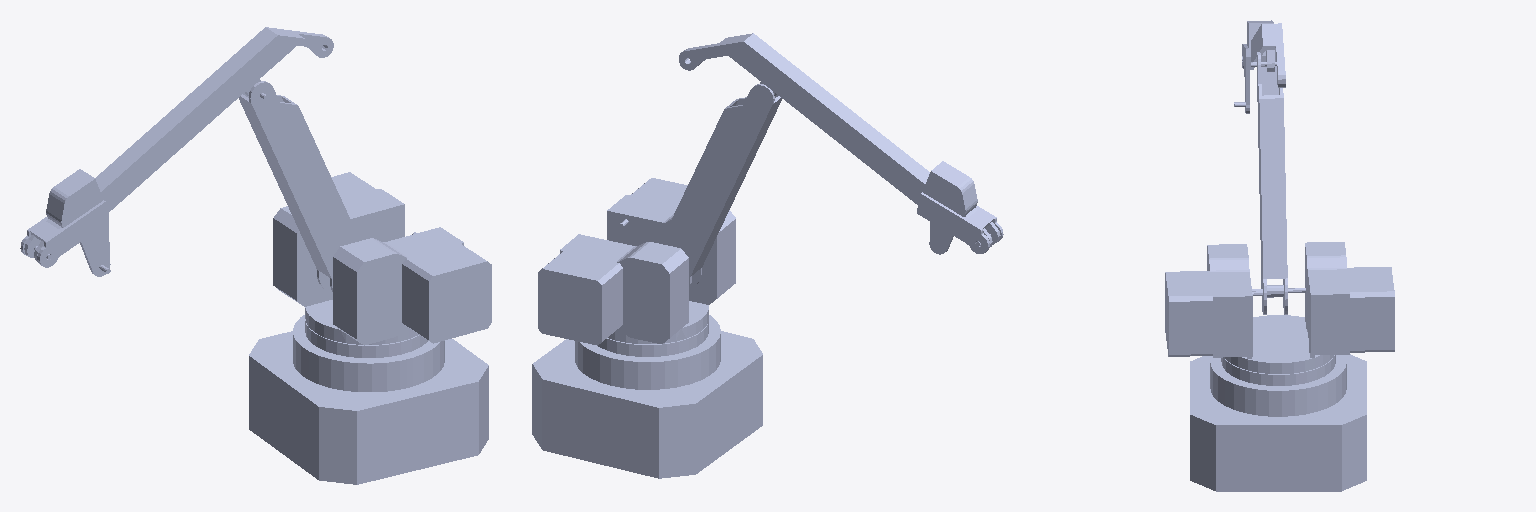
The robot description file, URDF, robot "swiftpro":
<robot
  name="swiftpro">

  <klampt package_root="[local-path]/uarm/ROS/src" fixed_root_link="Link 0"/>

  <link
    name="base_footprint">
    <fixed>
      <origin
        xyz="0.0000 0.0000 0.0000"
        rpy="0 0 0" />
    </fixed>
  </link>

  <link
    name="base">
    <inertial>
      <origin
        xyz="-9.34726122709917E-19 1.77939460840268E-18 0.0300064791337254"
        rpy="0 0 0" />
      <mass
        value="0.679637270218751" />
      <inertia
        ixx="0.000817651950315855"
        ixy="-1.85331470603731E-20"
        ixz="6.68744425350768E-21"
        iyy="0.000817651950315855"
        iyz="4.10821966385872E-20"
        izz="0.00116316552753551" />
    </inertial>
    <visual>
      <origin
        xyz="0 0 0"
        rpy="0 0 0" />
      <geometry>
        <mesh
          filename="package://swiftpro_support/meshes/Base.STL" />
      </geometry>
      <material
        name="">
        <color
          rgba="0.792156862745098 0.819607843137255 0.933333333333333 1" />
      </material>
    </visual>
    <collision>
      <origin
        xyz="0 0 0"
        rpy="0 0 0" />
      <geometry>
        <mesh
          filename="package://swiftpro_support/meshes/Base.STL" />
      </geometry>
    </collision>
  </link>

  <link
    name="link1">
    <inertial>
      <origin
        xyz="-2.55568402493348E-06 0.030540926133861 0.00413270671578733"
        rpy="0 0 0" />
      <mass
        value="0.296580985459948" />
      <inertia
        ixx="0.00018532742603172"
        ixy="1.39475759212683E-08"
        ixz="1.37901625170713E-08"
        iyy="0.000619593242561017"
        iyz="-3.73559978369842E-06"
        izz="0.000573811013496632" />
    </inertial>
    <visual>
      <origin
        xyz="0 0 0"
        rpy="0 0 0" />
      <geometry>
        <mesh
          filename="package://swiftpro_support/meshes/Link1.STL" />
      </geometry>
      <material
        name="">
        <color
          rgba="0.792156862745098 0.819607843137255 0.933333333333333 1" />
      </material>
    </visual>
    <collision>
      <origin
        xyz="0 0 0"
        rpy="0 0 0" />
      <geometry>
        <mesh
          filename="package://swiftpro_support/meshes/Link1.STL" />
      </geometry>
    </collision>
  </link>

  <link
    name="link2">
    <inertial>
      <origin
        xyz="0.0647725407680328 -0.00155255361416372 0.000594842747156696"
        rpy="0 0 0" />
      <mass
        value="0.0218697004736725" />
      <inertia
        ixx="2.38072716428988E-06"
        ixy="2.14219537562554E-08"
        ixz="-9.19598616394197E-07"
        iyy="4.39492923296653E-05"
        iyz="1.1133182076096E-09"
        izz="4.31316985886006E-05" />
    </inertial>
    <visual>
      <origin
        xyz="0 0 0"
        rpy="0 0 0" />
      <geometry>
        <mesh
          filename="package://swiftpro_support/meshes/Link2.STL" />
      </geometry>
      <material
        name="">
        <color
          rgba="0.792156862745098 0.819607843137255 0.933333333333333 1" />
      </material>
    </visual>
    <collision>
      <origin
        xyz="0 0 0"
        rpy="0 0 0" />
      <geometry>
        <mesh
          filename="package://swiftpro_support/meshes/Link2.STL" />
      </geometry>
    </collision>
  </link>

  <link
    name="link3">
    <inertial>
      <origin
        xyz="0.000193012686506066 0.0486137488132938 0.0104697897003571"
        rpy="0 0 0" />
      <mass
        value="0.0264312168363855" />
      <inertia
        ixx="9.77218662307356E-05"
        ixy="4.77066994255986E-07"
        ixz="5.6927633097355E-08"
        iyy="1.96810067988756E-06"
        iyz="5.8966089996398E-06"
        izz="9.67664171897577E-05" />
    </inertial>
    <visual>
      <origin
        xyz="0 0 0"
        rpy="0 0 0" />
      <geometry>
        <mesh
          filename="package://swiftpro_support/meshes/Link3.STL" />
      </geometry>
      <material
        name="">
        <color
          rgba="0.792156862745098 0.819607843137255 0.933333333333333 1" />
      </material>
    </visual>
    <collision>
      <origin
        xyz="0 0 0"
        rpy="0 0 0" />
      <geometry>
        <mesh
          filename="package://swiftpro_support/meshes/Link3.STL" />
      </geometry>
    </collision>
  </link>

  <link
    name="link4">
    <inertial>
      <origin
        xyz="-0.000777958895033593 -0.0272350449440512 0.00926081978052293"
        rpy="0 0 0" />
      <mass
        value="0.0128546978194405" />
      <inertia
        ixx="3.28850858242837E-06"
        ixy="-2.07790980253739E-08"
        ixz="-2.62998809825329E-07"
        iyy="2.10901510880569E-06"
        iyz="3.82707812767876E-07"
        izz="2.19265877841565E-06" />
    </inertial>
    <visual>
      <origin
        xyz="0 0 0"
        rpy="0 0 0" />
      <geometry>
        <mesh
          filename="package://swiftpro_support/meshes/Gripper.STL" />
      </geometry>
      <material
        name="">
        <color
          rgba="0.792156862745098 0.819607843137255 0.933333333333333 1" />
      </material>
    </visual>
    <collision>
      <origin
        xyz="0 0 0"
        rpy="0 0 0" />
      <geometry>
        <mesh
          filename="package://swiftpro_support/meshes/Gripper.STL" />
      </geometry>
    </collision>
  </link>

  <joint
    name="joint_0"
    type="fixed">
    <origin
      xyz="0 0 0.07225"
      rpy="0 0 0" />
    <parent
      link="base_footprint"/>
    <child
      link="base"/>
  </joint>

  <joint
    name="joint_1"
    type="revolute">
    <origin
      xyz="0 0 0.07225"
      rpy="1.5708 -1.2246E-16 0" />
    <parent
      link="base" />
    <child
      link="link1" />
    <axis
      xyz="0 1 0" />
    <limit
      lower="0.5137"
      upper="2.7363"
      effort="0.1"
      velocity="0.1" />
  </joint>

  <joint
    name="joint_2"
    type="revolute">
    <origin
      xyz="0 0.03355 -0.01615"
      rpy="3.14159 1.5708 1.5708" />
    <parent
      link="link1" />
    <child
      link="link2" />
    <axis
      xyz="0 1 0" />
    <limit
      lower="0.03559"
      upper="2.2769"
      effort="0.1"
      velocity="0.1" />
  </joint>

  <joint
    name="joint_3"
    type="revolute">
    <origin
      xyz="0.1428 -0.00075 0.00465"
      rpy="1.5708 4.3153E-17 1.5708" />
    <parent
      link="link2" />
    <child
      link="link3" />
    <axis
      xyz="-1 0 0" />
    <limit
      lower="-1.016"
      upper="1.3512"
      effort="0.1"
      velocity="0.1" />
  </joint>

  <joint
    name="joint_4"
    type="revolute">
    <origin
      xyz="0 0.1578 0.00026846"
      rpy="3.14159 0 1.5779E-17" />
    <parent
      link="link3" />
    <child
      link="link4" />
    <axis
      xyz="1 0 0" />
    <limit
      lower="-3.141"
      upper="3.141"
      effort="0.1"
      velocity="0.1" />
    <mimic
      joint="joint_1"
      offset="1.570796"/>
  </joint>
</robot>

--- Render facts (derived) ---
Views: 3 orthographic renders of the robot side by side, from view 1: azimuth 30°, elevation 25°; view 2: azimuth 150°, elevation 25°; view 3: azimuth 270°, elevation 25°.
Model swiftpro with 6 links and 5 joints (4 revolute, 1 fixed), rooted at base_footprint, posed all joints at 0 but 2 set to mid-range because 0 is outside their limits (joint_1 = 1.62, joint_2 = 1.16, joint_4 = 3.2).
Links seen in each view (by area): view 1: base, link1, link3, link2, link4; view 2: base, link1, link3, link2, link4; view 3: base, link1, link2, link3, link4.
Boxes of the visible links, bbox=[...] form: base: bbox=[249, 315, 488, 484]; link1: bbox=[273, 172, 491, 345]; link3: bbox=[24, 27, 333, 261]; link2: bbox=[239, 79, 359, 292]; link4: bbox=[20, 169, 110, 276]; base: bbox=[532, 315, 762, 478]; link1: bbox=[538, 178, 735, 345]; link3: bbox=[679, 33, 1000, 246]; link2: bbox=[660, 82, 781, 289]; link4: bbox=[917, 161, 1003, 254]; base: bbox=[1190, 354, 1366, 491]; link1: bbox=[1165, 242, 1394, 373]; link2: bbox=[1251, 52, 1287, 314]; link3: bbox=[1242, 23, 1285, 87]; link4: bbox=[1234, 20, 1275, 113].
Bounding box of the posed robot: 0.2846 × 0.1446 × 0.2683 m (x, y, z).
5 mesh visuals loaded from 5 distinct referenced files (5 binary STL).